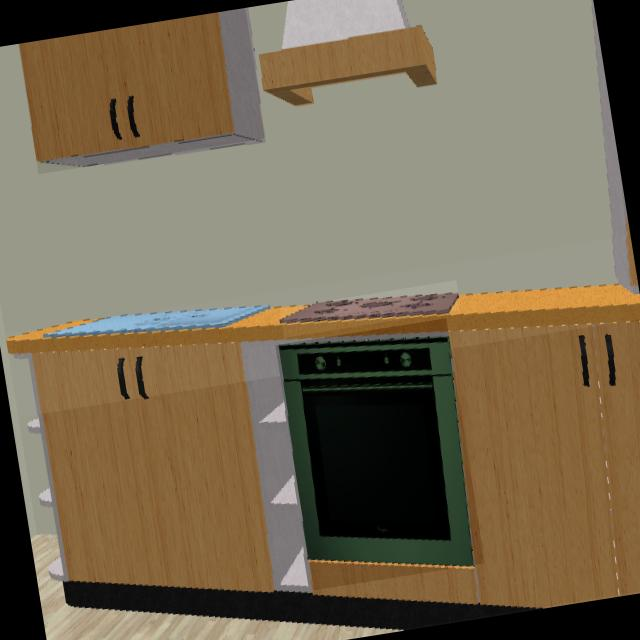cabinet: (31, 322, 640, 628), (21, 8, 265, 163)
countertop: (7, 284, 640, 354)
oven: (280, 336, 473, 565)
stove: (282, 293, 458, 322)
